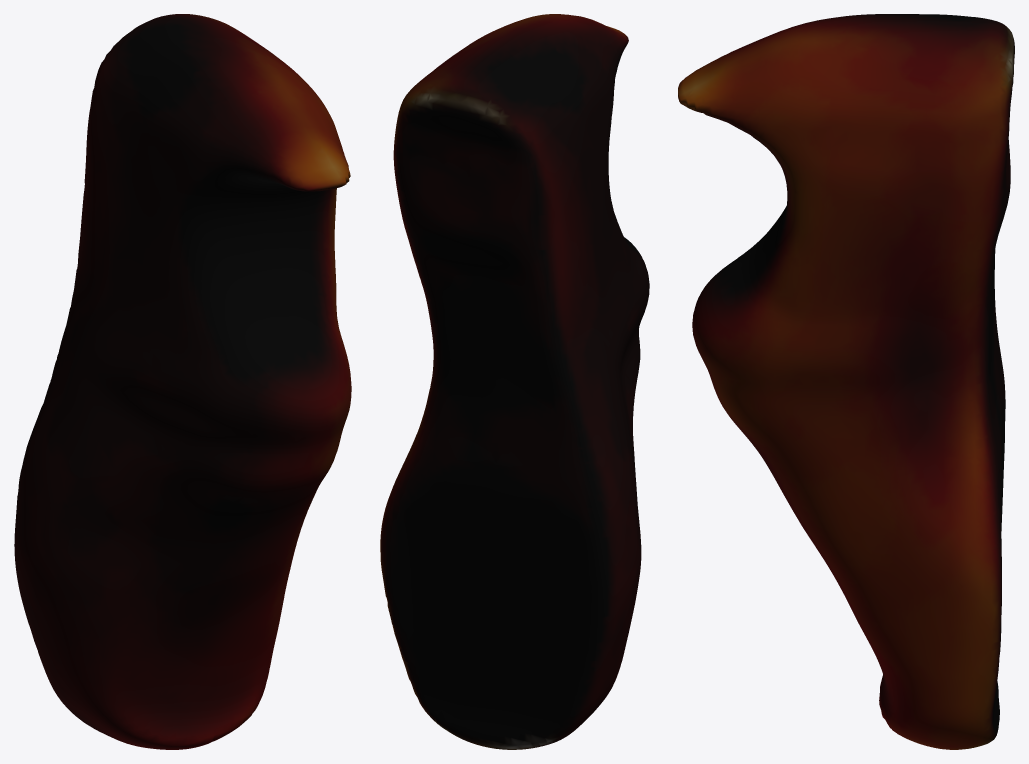
The model's file is shoe3.glb.
3 renders of one model, left to right at view 1: azimuth 30°, elevation 25°; view 2: azimuth 150°, elevation 25°; view 3: azimuth 270°, elevation 25°, orthographic. The views are drawn at different scales.
Size of the model in its own units: 0.375 by 0.9997 by 0.421.
